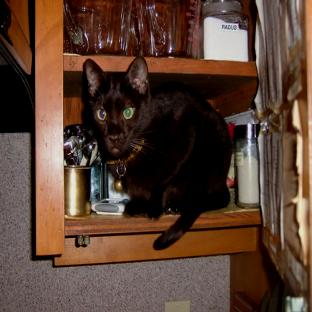Animal: (84, 57, 231, 249)
